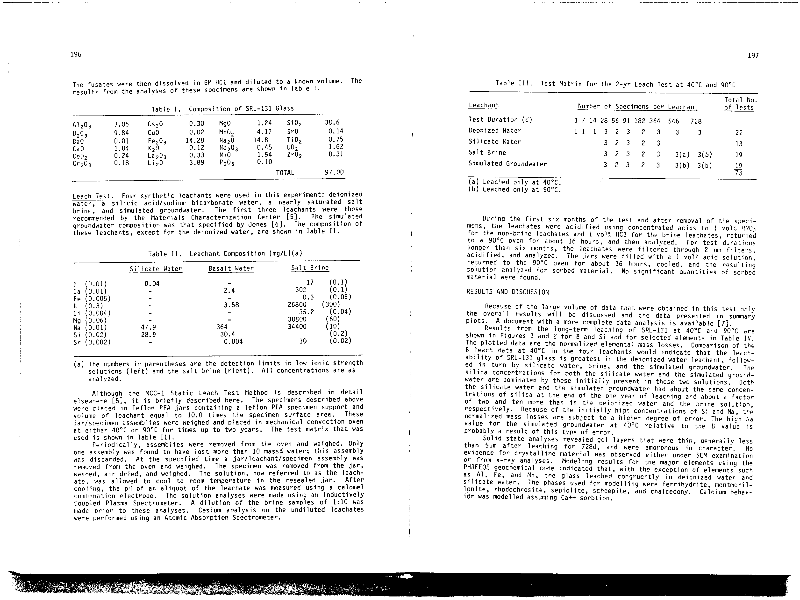table: (465, 92, 761, 205), (69, 246, 363, 356), (70, 103, 361, 187)
